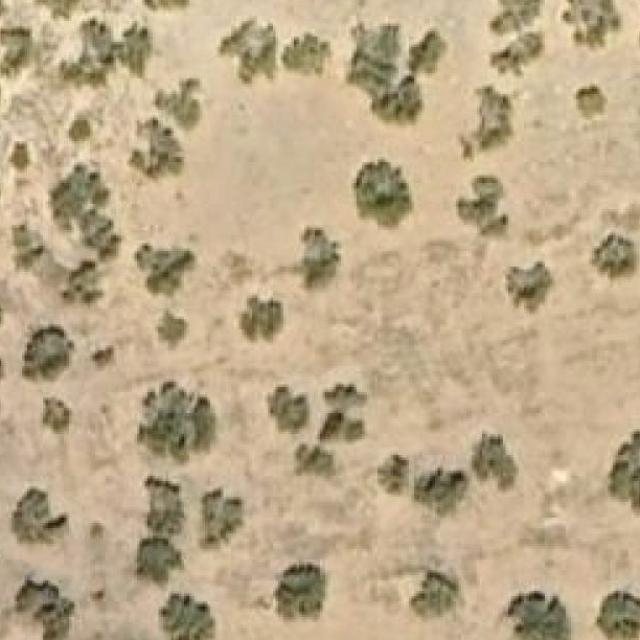Tree: (132, 382, 220, 468), (50, 165, 121, 263), (60, 19, 150, 87), (218, 16, 284, 89), (351, 160, 414, 233), (458, 84, 514, 162), (14, 572, 74, 640), (129, 117, 186, 178), (455, 176, 510, 238), (134, 244, 196, 299), (275, 558, 325, 626), (346, 21, 399, 84), (500, 591, 568, 640), (563, 0, 624, 53), (10, 489, 66, 545), (319, 385, 374, 440), (503, 261, 555, 317), (22, 327, 74, 383), (0, 21, 31, 113), (608, 426, 640, 515), (413, 468, 469, 516), (200, 486, 242, 549), (487, 34, 550, 76), (155, 78, 202, 134), (160, 593, 215, 640), (236, 295, 286, 345), (409, 570, 459, 620), (592, 232, 640, 282), (374, 76, 424, 122), (474, 437, 516, 490), (595, 591, 640, 640), (266, 387, 312, 434), (280, 34, 330, 76), (301, 230, 338, 286), (148, 481, 187, 533), (406, 30, 448, 74), (12, 223, 51, 270), (142, 536, 179, 582), (61, 264, 100, 306), (296, 442, 338, 479), (493, 0, 545, 29), (32, 0, 98, 21), (377, 452, 409, 494), (155, 311, 189, 350), (573, 84, 608, 118), (43, 397, 72, 432), (134, 0, 195, 10), (12, 141, 30, 173), (92, 348, 113, 372), (71, 120, 90, 141)
